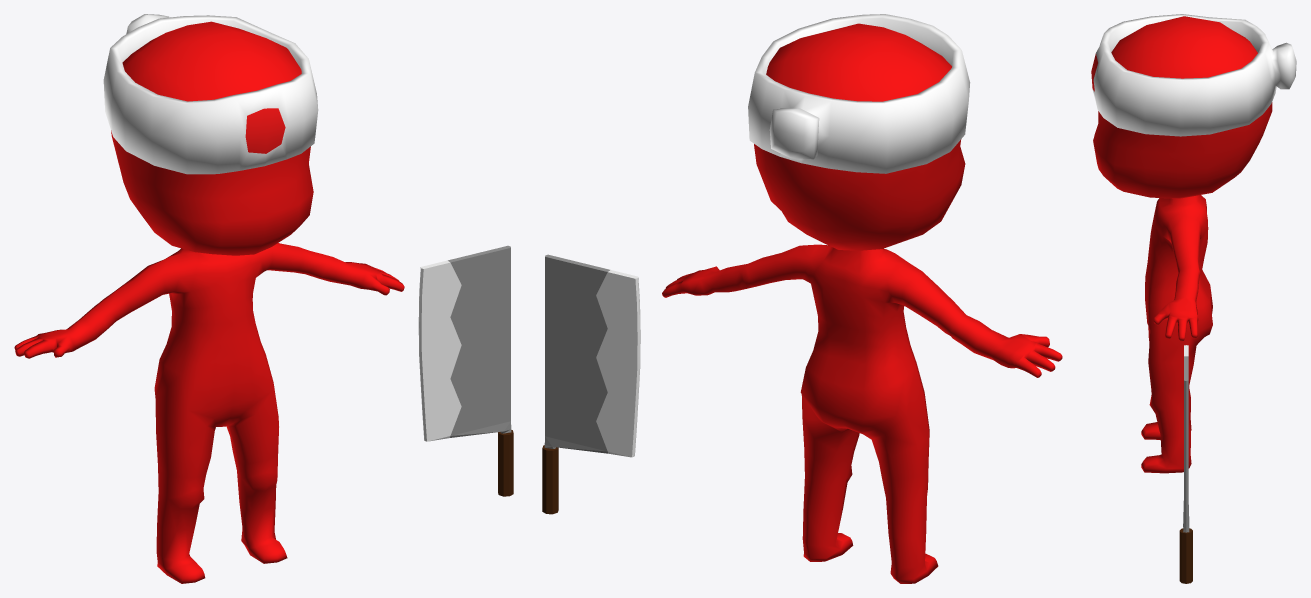
File: sushiChef.fbx
The picture shows the model from 3 angles, left to right: view 1: azimuth 30°, elevation 25°; view 2: azimuth 150°, elevation 25°; view 3: azimuth 270°, elevation 25°; orthographic projection. The views are drawn at different scales.
Parts seen in each view (by area): view 1: red_body, red_head, band, Cylinder001; view 2: red_body, red_head, band, Cylinder001; view 3: red_head, band, red_body, Cylinder001.
Boxes of the visible parts, x1,y1,x2,y2 form: red_body: (14,243,404,583); red_head: (111,21,313,255); band: (103,14,318,174); Cylinder001: (418,245,513,496); red_body: (662,244,1062,583); red_head: (754,23,965,250); band: (748,14,970,173); Cylinder001: (542,254,640,514); red_head: (1093,16,1272,198); band: (1091,14,1296,136); red_body: (1141,195,1212,473); Cylinder001: (1179,345,1192,583).
Size of the model in its own units: 618 by 632 by 270.
